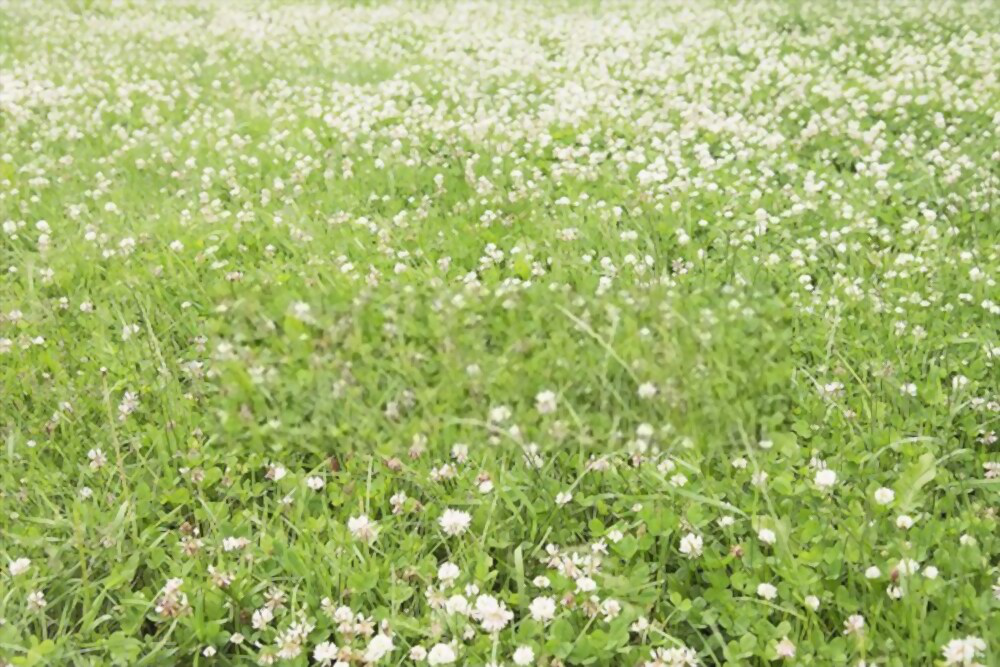clover: (2, 7, 1000, 653)
